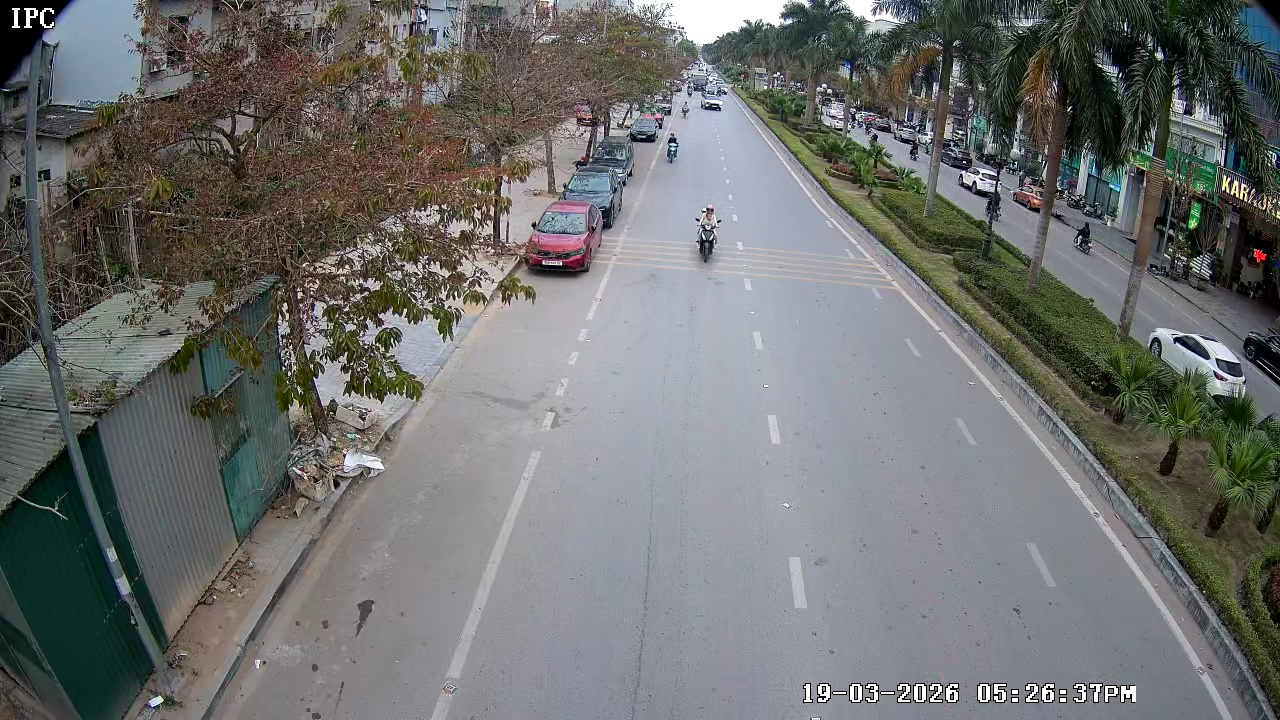car: (1144, 327, 1247, 398), (524, 199, 601, 276), (559, 162, 630, 231), (700, 92, 726, 113)
motorbike: (693, 203, 724, 265), (665, 130, 682, 165)
